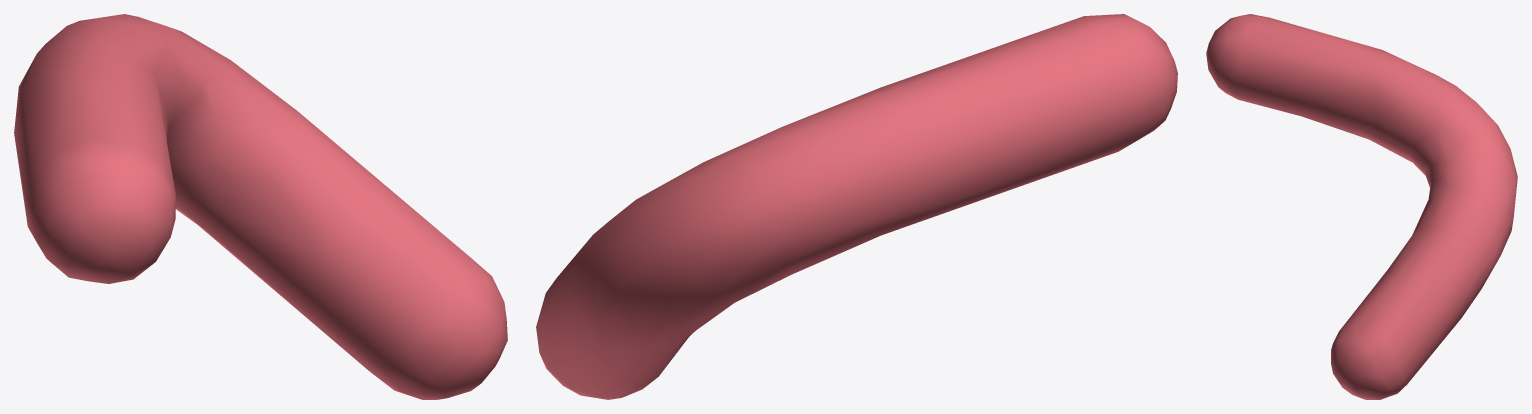
Rendered from fma76470_fj2223.glb.
3 views of the same model, side by side, from view 1: azimuth 30°, elevation 25°; view 2: azimuth 150°, elevation 25°; view 3: azimuth 270°, elevation 25° (orthographic). The views are drawn at different scales.
Visible parts, largest first — view 1: FMA76470_FJ2223; view 2: FMA76470_FJ2223; view 3: FMA76470_FJ2223.
Boxes of the visible parts, x1,y1,x2,y2 form: FMA76470_FJ2223: (14, 14, 507, 399); FMA76470_FJ2223: (536, 14, 1177, 399); FMA76470_FJ2223: (1206, 14, 1517, 399).
Bounding box in the file's own units: 0.011 × 0.00808 × 0.00902.
